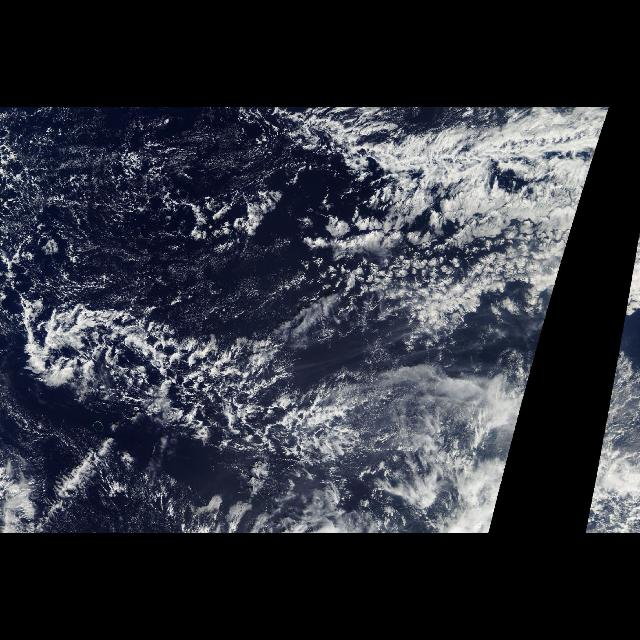Fish: (34, 290, 318, 470)
Gravel: (56, 293, 397, 463), (1, 108, 287, 292)
Sugar: (10, 109, 590, 522)
